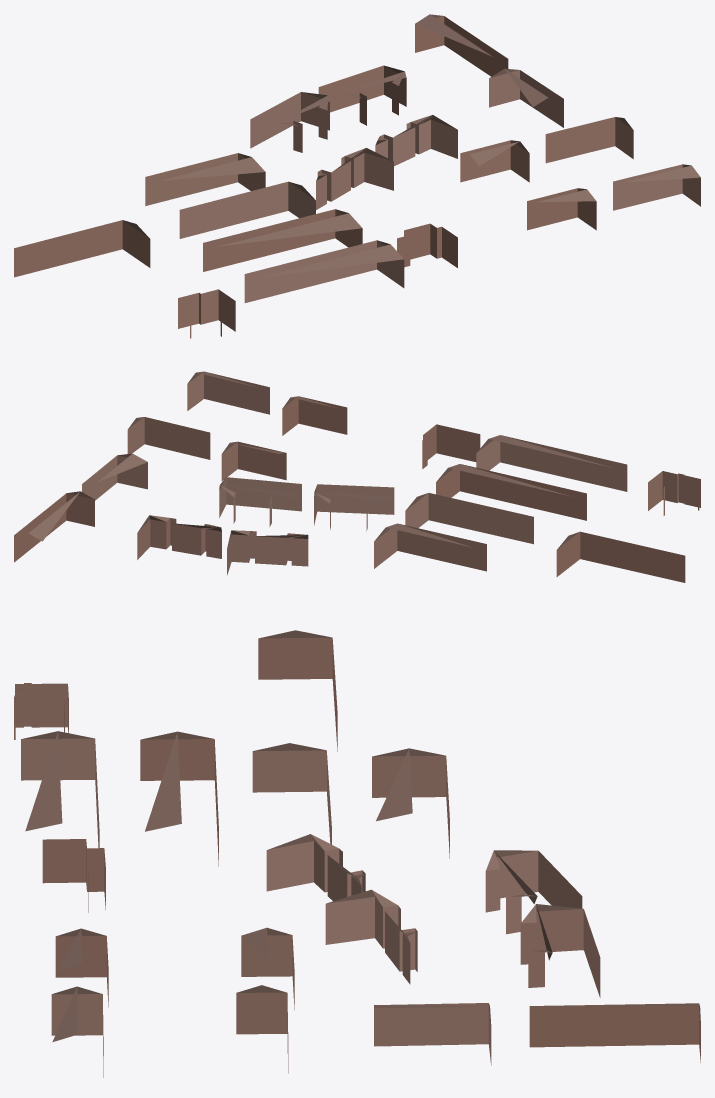
The model's file is c_1640_17836_buildings_residential.glb.
The picture shows the model from 3 angles, top to bottom: view 1: azimuth 30°, elevation 25°; view 2: azimuth 150°, elevation 25°; view 3: azimuth 270°, elevation 25°; orthographic projection. The views are drawn at different scales.
Parts seen in each view (by area): view 1: geometry_0; view 2: geometry_0; view 3: geometry_0.
Boxes of the visible parts, x1,y1,x2,y2 form: geometry_0: [14, 14, 700, 338]; geometry_0: [14, 371, 700, 582]; geometry_0: [14, 630, 700, 1077].
Bounding box in the file's own units: 189 × 10.68 × 136.
